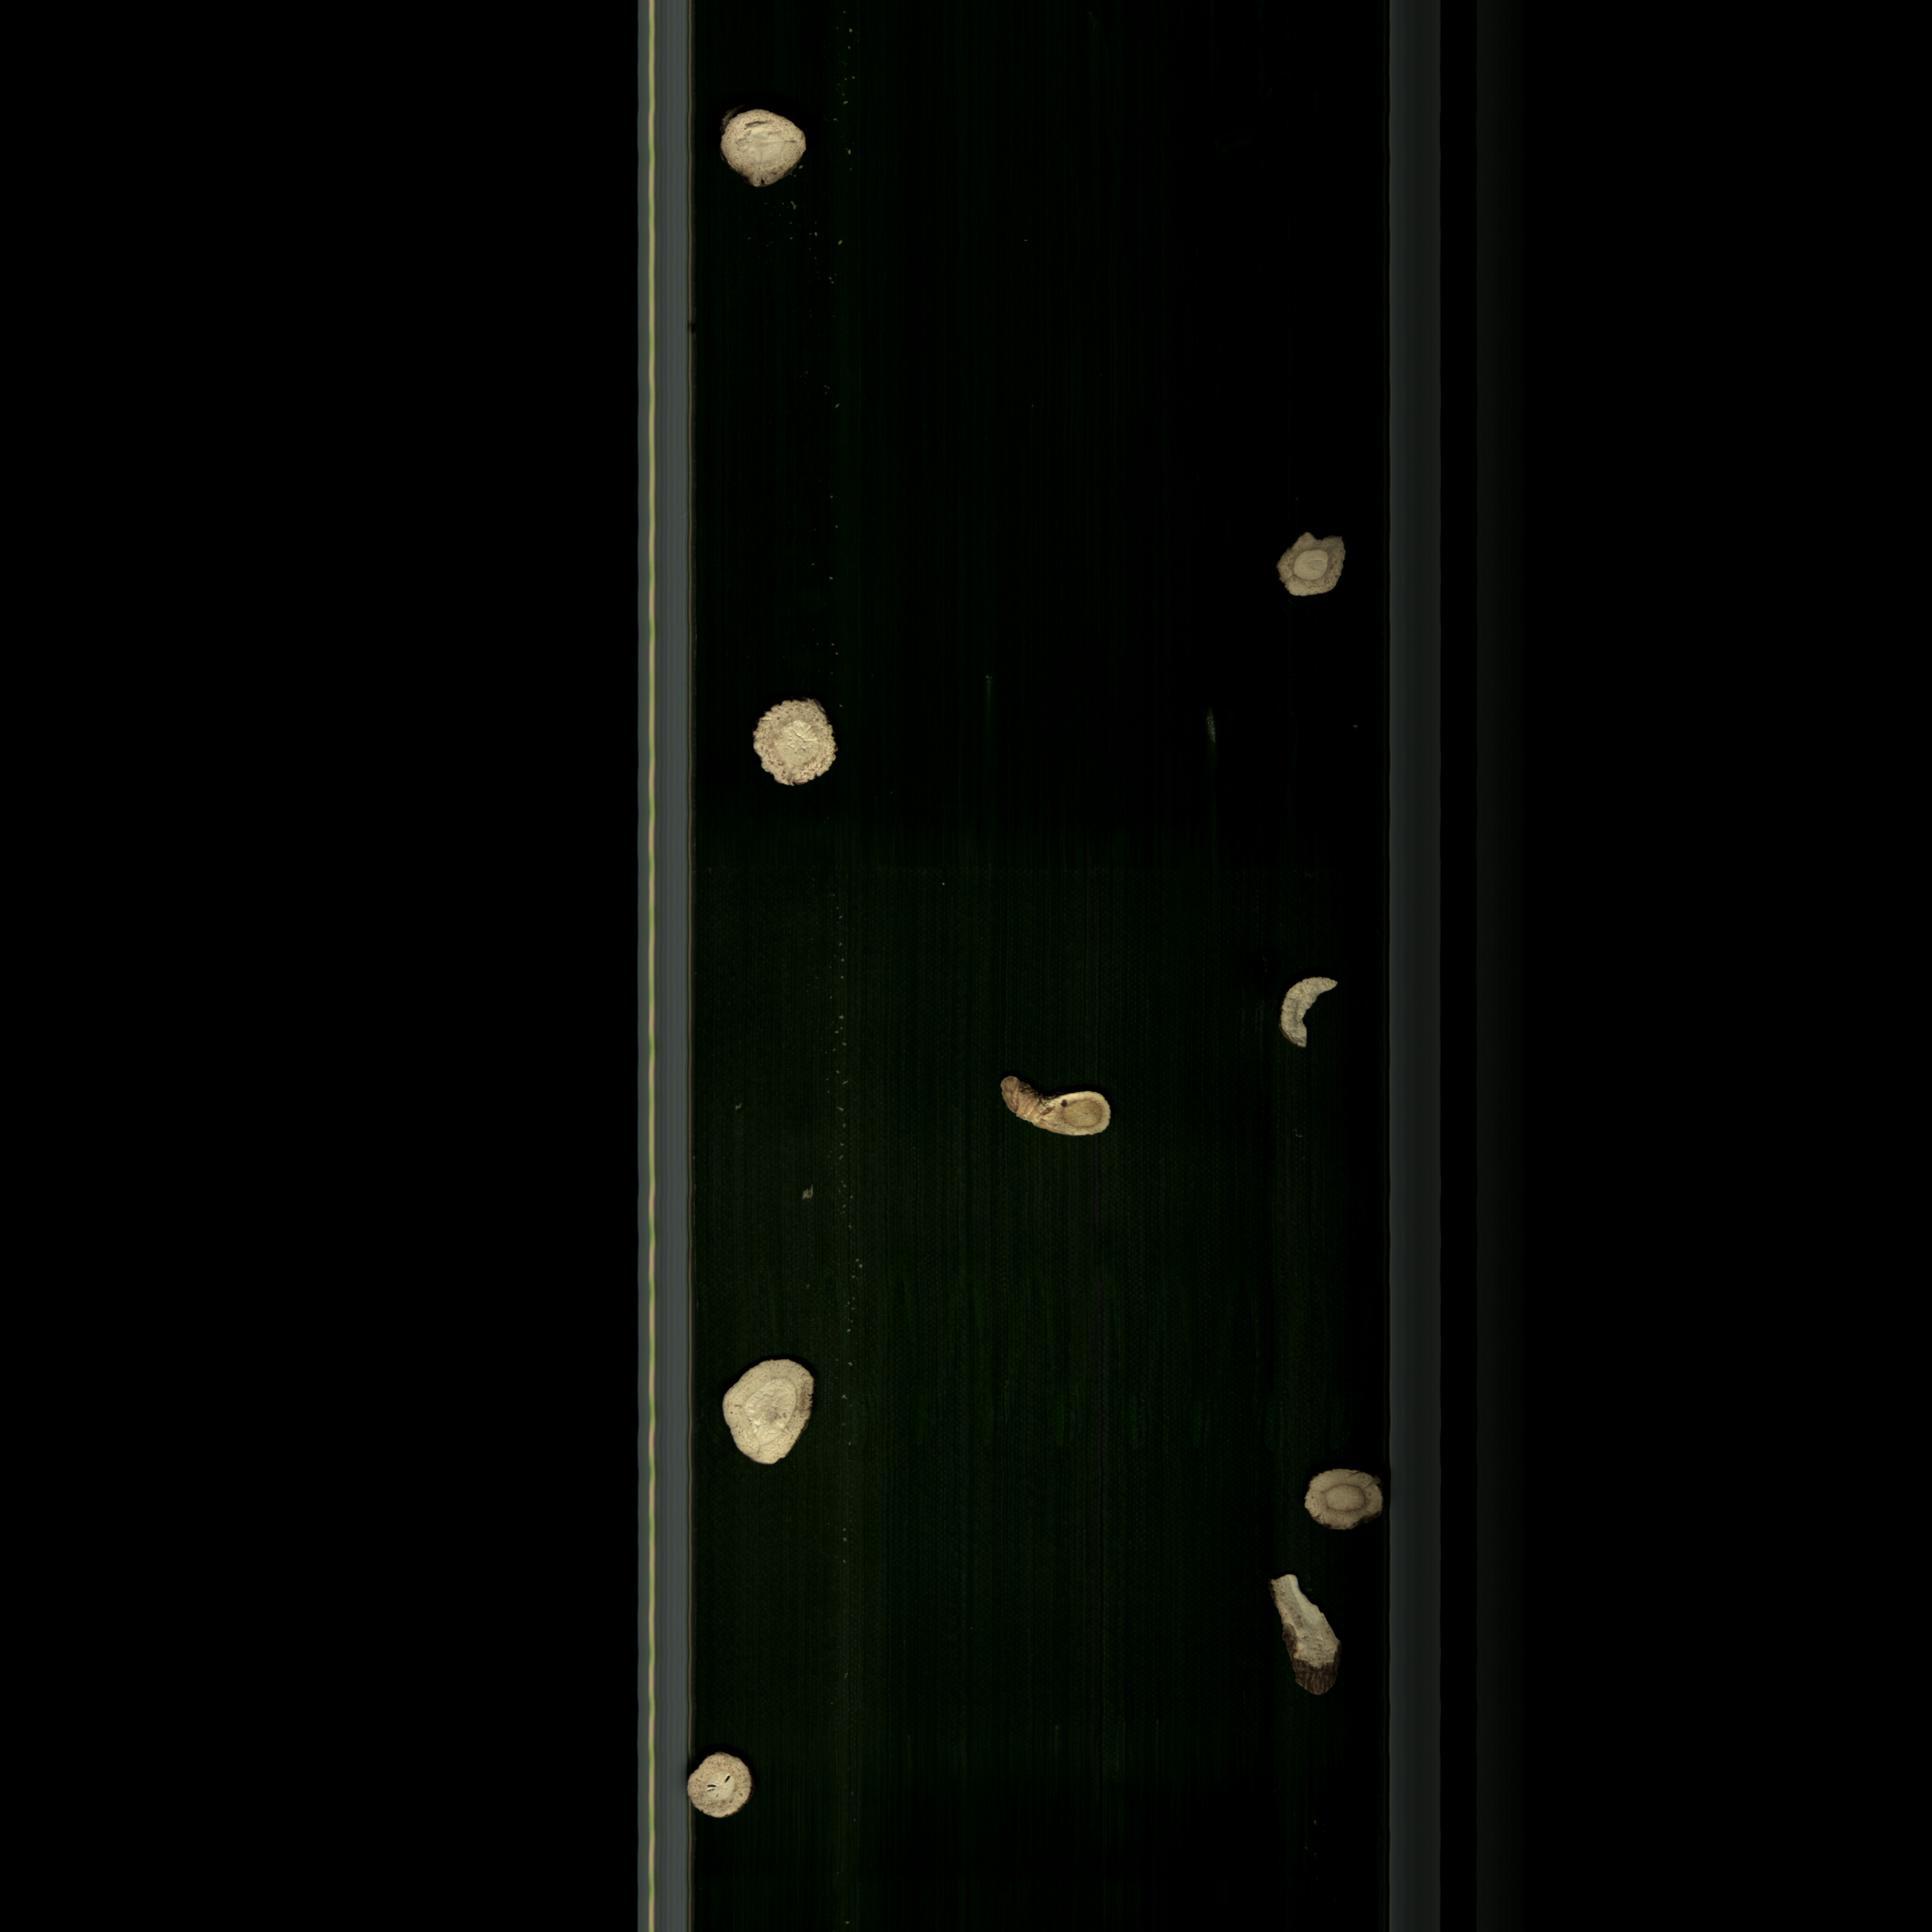debris: (1254, 1566, 1361, 1709)
dreg: (1279, 962, 1359, 1058)
hole: (683, 1744, 778, 1822)
moldy: (991, 1062, 1143, 1155), (1269, 517, 1348, 605), (1304, 1467, 1392, 1536)
